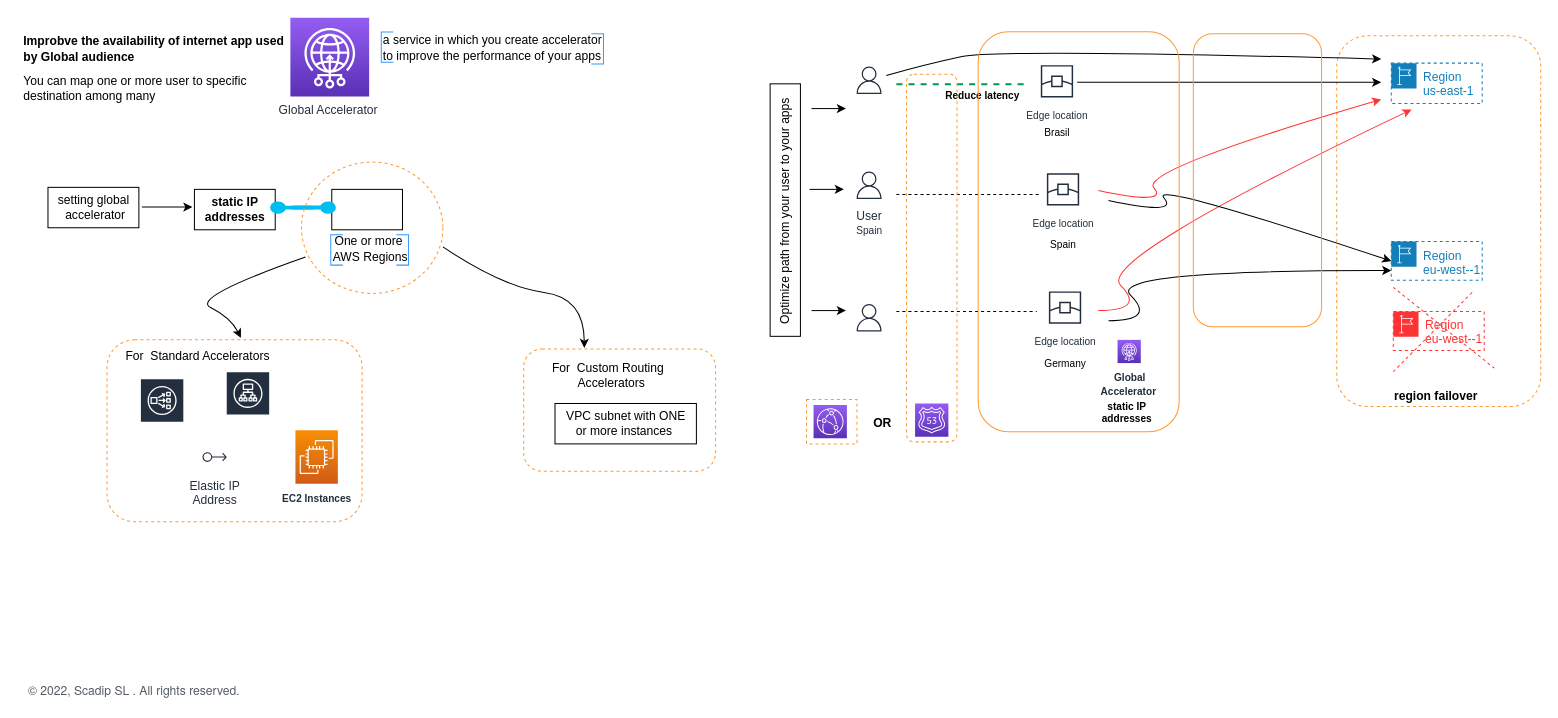
The diagram is 1558 pixels wide and 718 high, and some of its shapes have lost their labels. The shapes that lost their labels are listed below. From the top down, each one's centre as x and y in pixels, then its label:
(868,79): User Argentina
(1257,180): Global Network
(366,209): Regional Endpoint
(868,317): User Germany
(161,419): Network Load Balancer
(247,412): Application Load Balancer
(830,421): CloudFront
